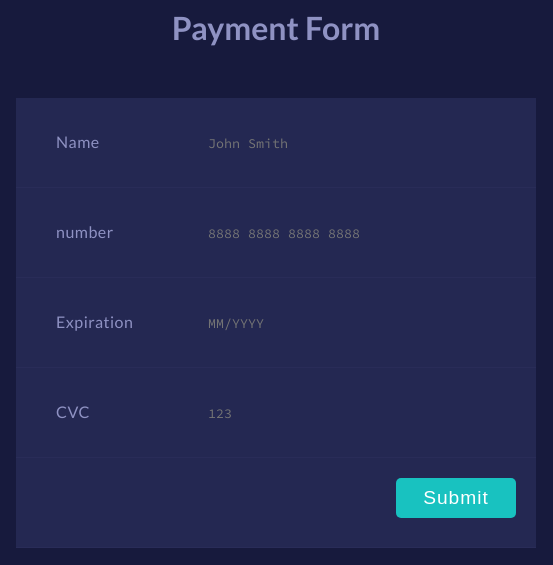
PaymentForm › shows error messages › when expiration is not in correct format
Type "123" into the field with placeholder "MM/YYYY".
click(356, 323); type("123")  # box [206, 314, 506, 333]
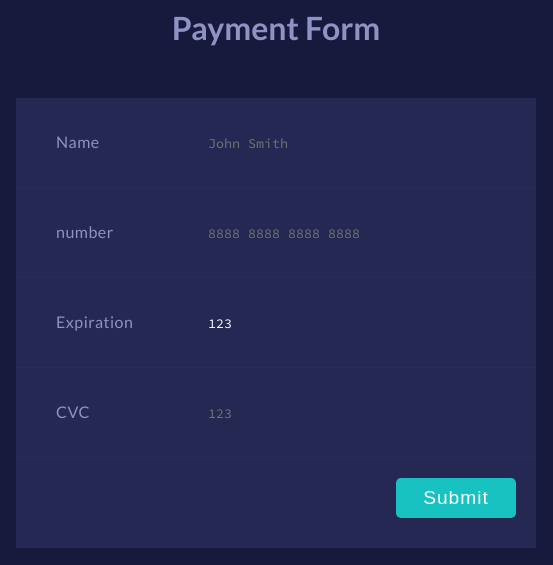
Now the field with placeholder "MM/YYYY" has attribute value="123", box [206, 314, 506, 333]
Click the button "Submit".
click(456, 498)  # box [396, 478, 516, 518]
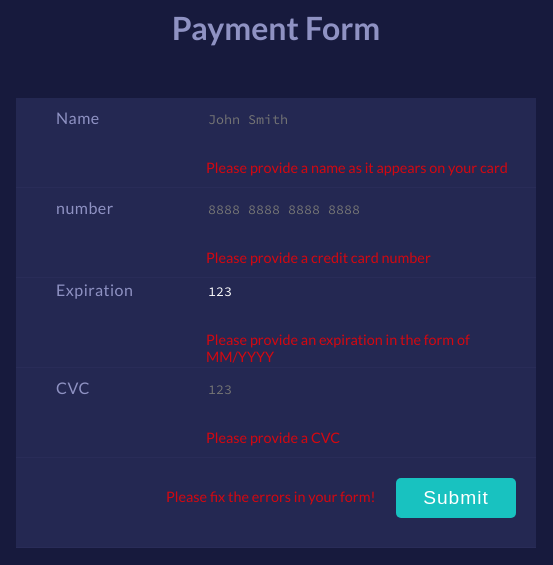
Now the text "Please provide an expiration in the form of MM/YYYY" is shown, box [206, 331, 470, 365]
